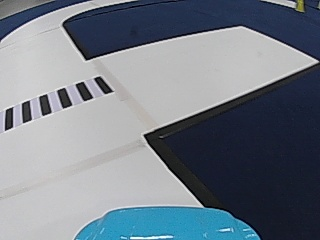CrossWalk: (5, 76, 109, 127)
